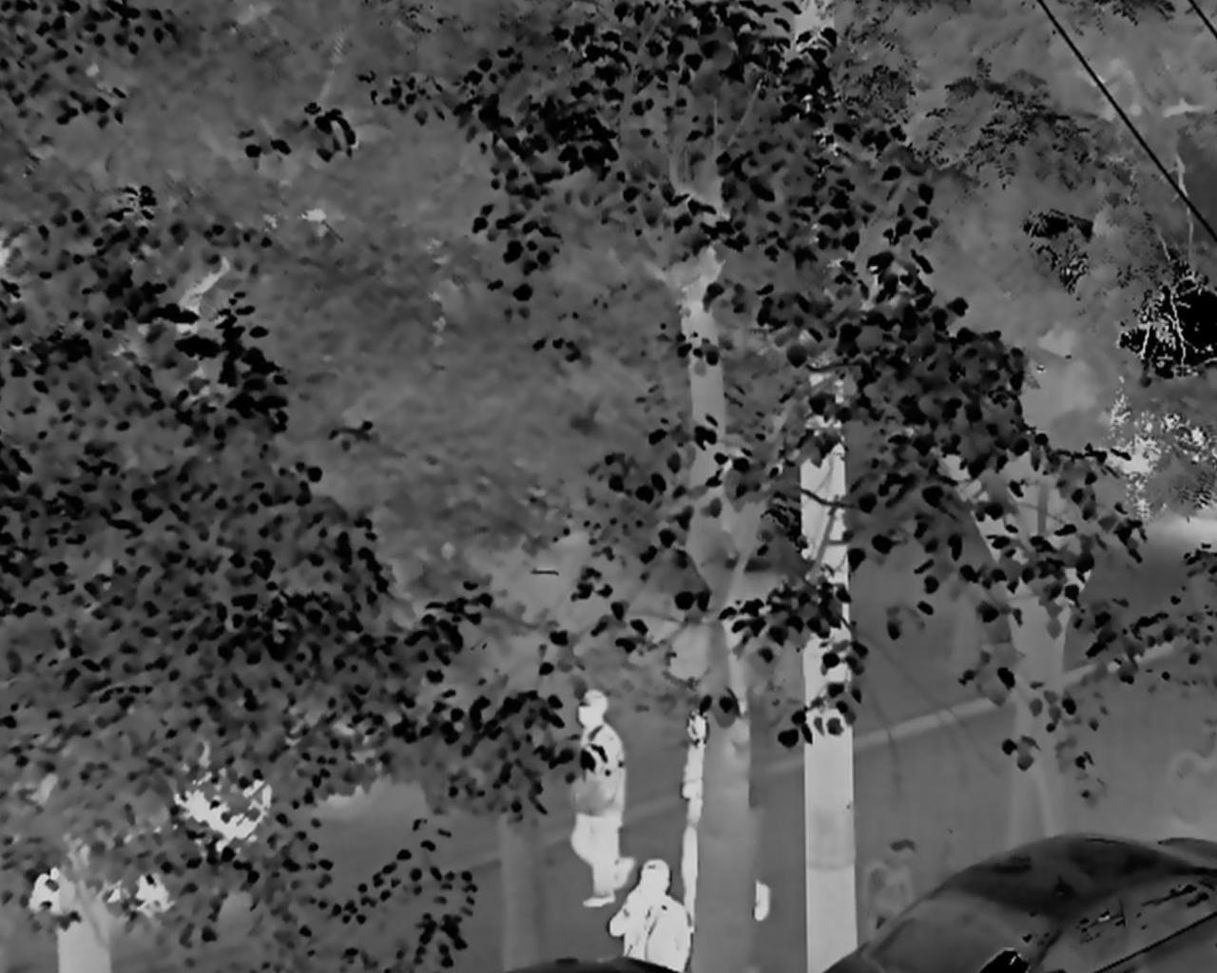person: (677, 696, 777, 934), (570, 694, 633, 911), (599, 850, 687, 973)
